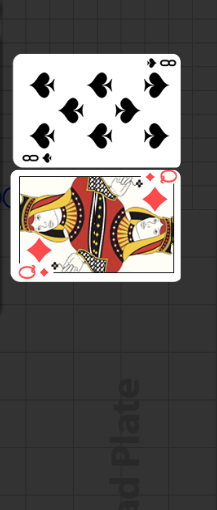8S: (144, 57, 176, 70)
QD: (134, 182, 181, 226), (14, 249, 60, 293)
